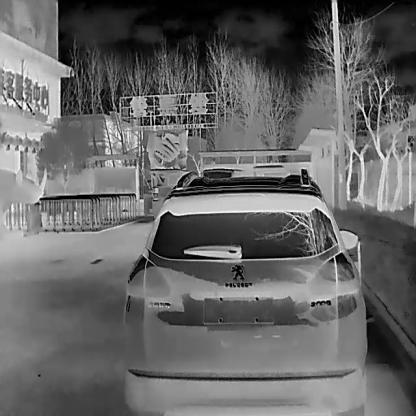car: (119, 168, 368, 416), (150, 166, 186, 217), (203, 166, 245, 178), (251, 163, 287, 175)
